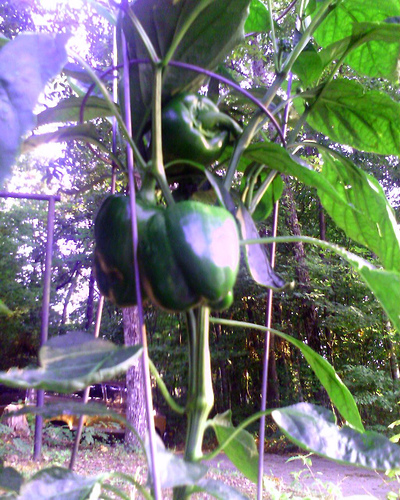capsicum: (141, 202, 245, 308), (91, 163, 161, 310), (161, 93, 243, 183)
